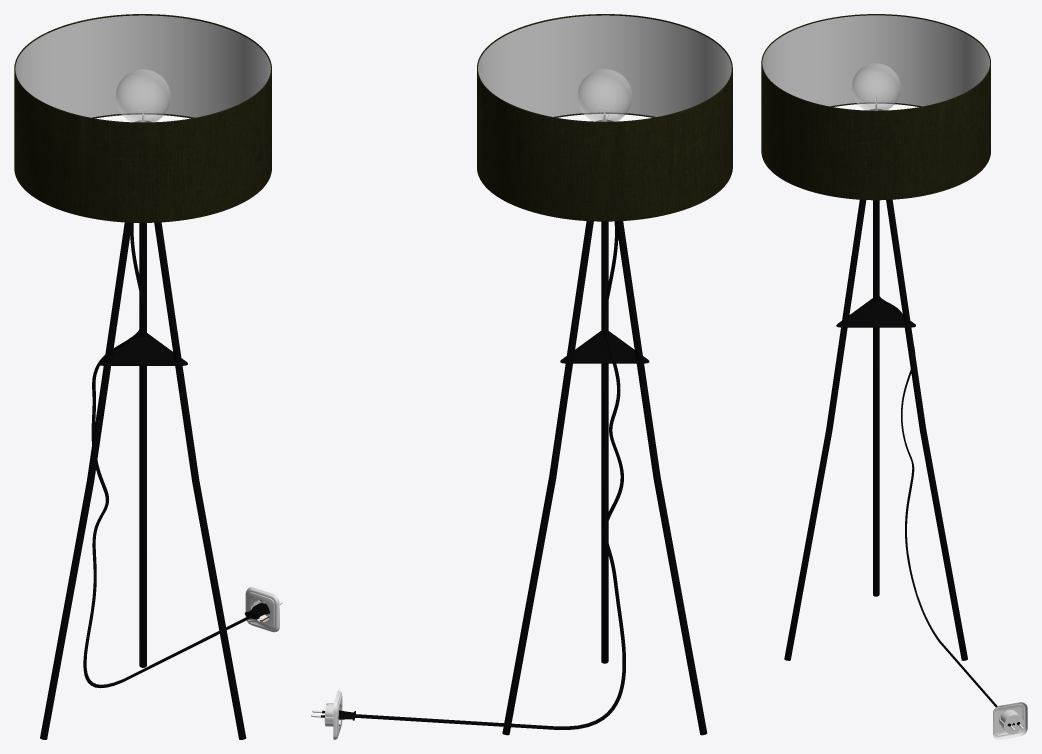
The model's file is floor_lamp_drum_shade_alpaca.glb.
The picture shows the model from 3 angles, left to right: view 1: azimuth 30°, elevation 25°; view 2: azimuth 150°, elevation 25°; view 3: azimuth 270°, elevation 25°; orthographic projection. The views are drawn at different scales.
Parts seen in each view (by area): view 1: Object_4, Object_5, Object_22; view 2: Object_4, Object_5, Object_22; view 3: Object_4, Object_5, Object_22.
Part boxes in pixels (x1,y1,x2,y2): Object_4: (15, 15, 282, 739); Object_5: (14, 14, 271, 222); Object_22: (115, 69, 170, 122); Object_4: (311, 15, 731, 739); Object_5: (477, 14, 732, 221); Object_22: (577, 69, 632, 121); Object_4: (762, 15, 1027, 739); Object_5: (761, 14, 990, 200); Object_22: (851, 63, 900, 110).
Bounding box in the file's own units: 4.03 × 7.78 × 3.18.
4 materials, 4 textured.
